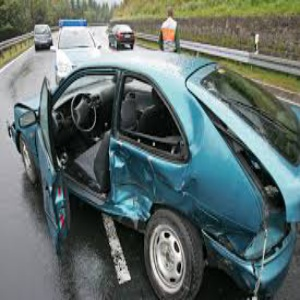door: (99, 144, 160, 220)
